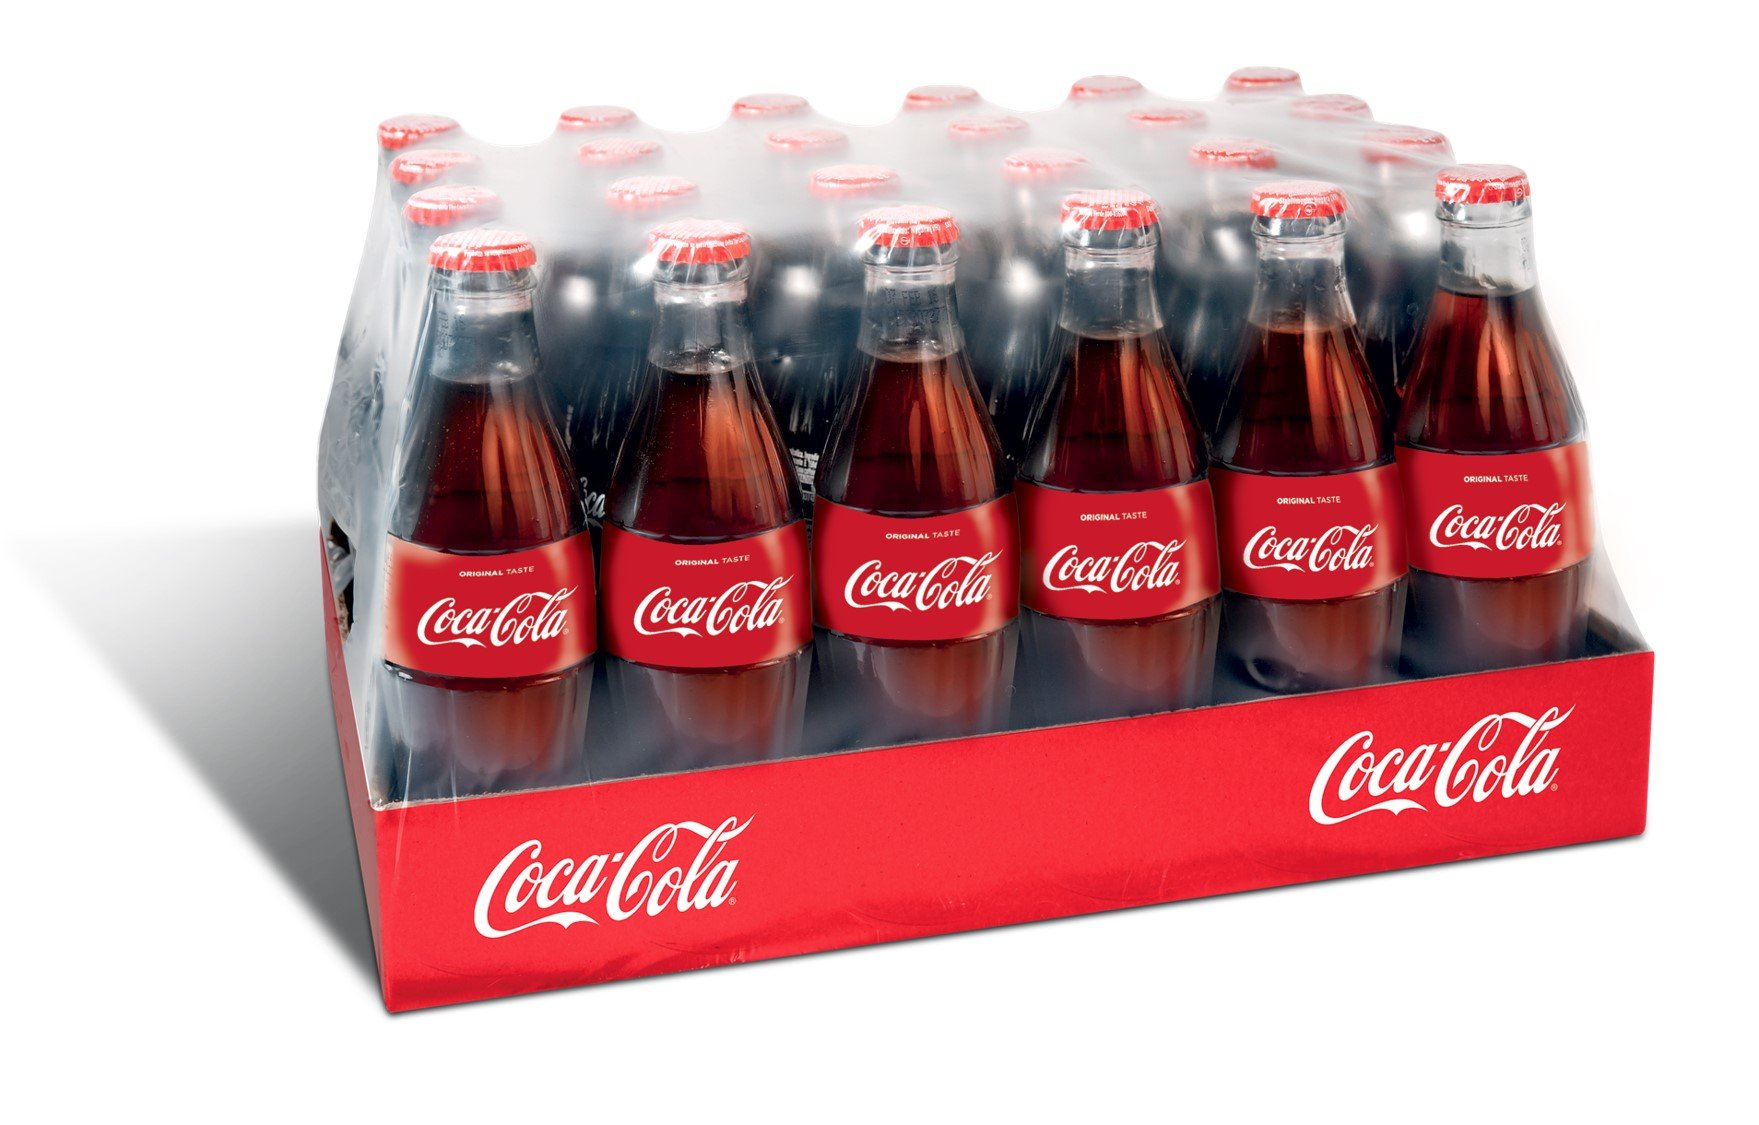Coca-Cola: (362, 219, 609, 862), (795, 216, 1024, 879), (1178, 183, 1404, 826), (1356, 174, 1588, 774), (587, 241, 803, 843), (1014, 216, 1221, 826)
